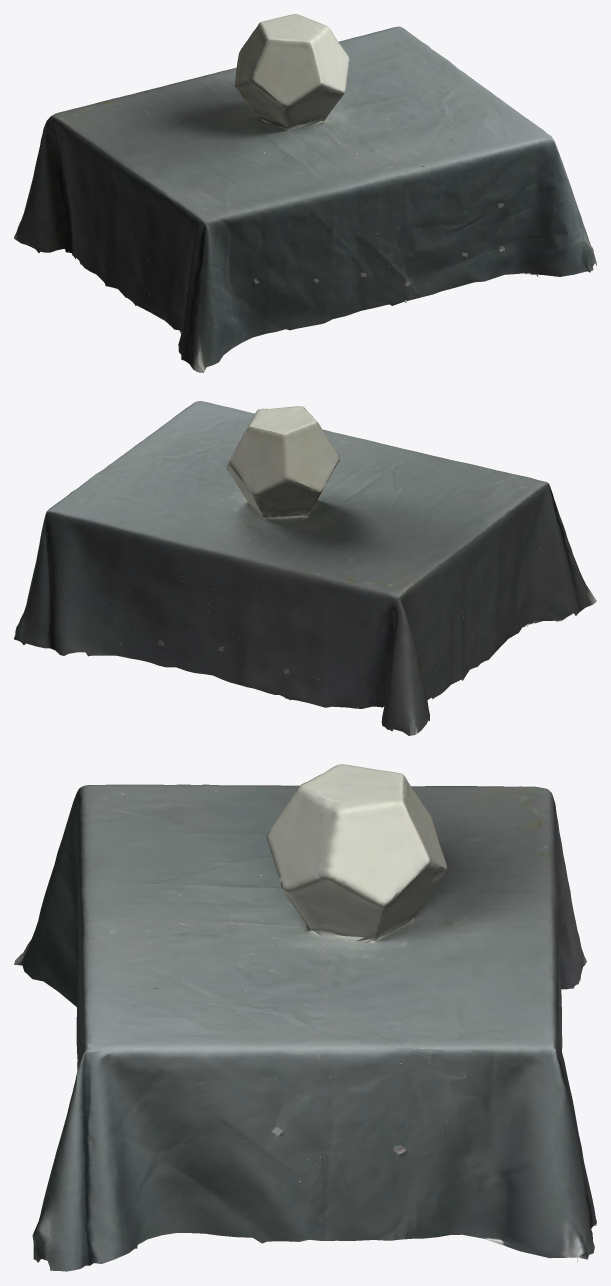
File: 静物_几何体_多面体花瓶02_opt.glb
3 renders of one model, top to bottom at view 1: azimuth 30°, elevation 25°; view 2: azimuth 150°, elevation 25°; view 3: azimuth 270°, elevation 25°, orthographic. The views are drawn at different scales.
Parts seen in each view (by area): view 1: defaultMat, defaultMat_1; view 2: defaultMat, defaultMat_1; view 3: defaultMat, defaultMat_1.
Boxes of the visible parts, x1=… form: defaultMat: x1=14, y1=14, x2=596, y2=372; defaultMat_1: x1=26, y1=15, x2=596, y2=369; defaultMat: x1=14, y1=401, x2=596, y2=735; defaultMat_1: x1=14, y1=406, x2=584, y2=731; defaultMat: x1=14, y1=764, x2=596, y2=1271; defaultMat_1: x1=35, y1=764, x2=595, y2=1267.
Bounding box in the file's own units: 0.6018 × 0.3 × 0.4771.
Materials: 1 (1 with a texture image).
